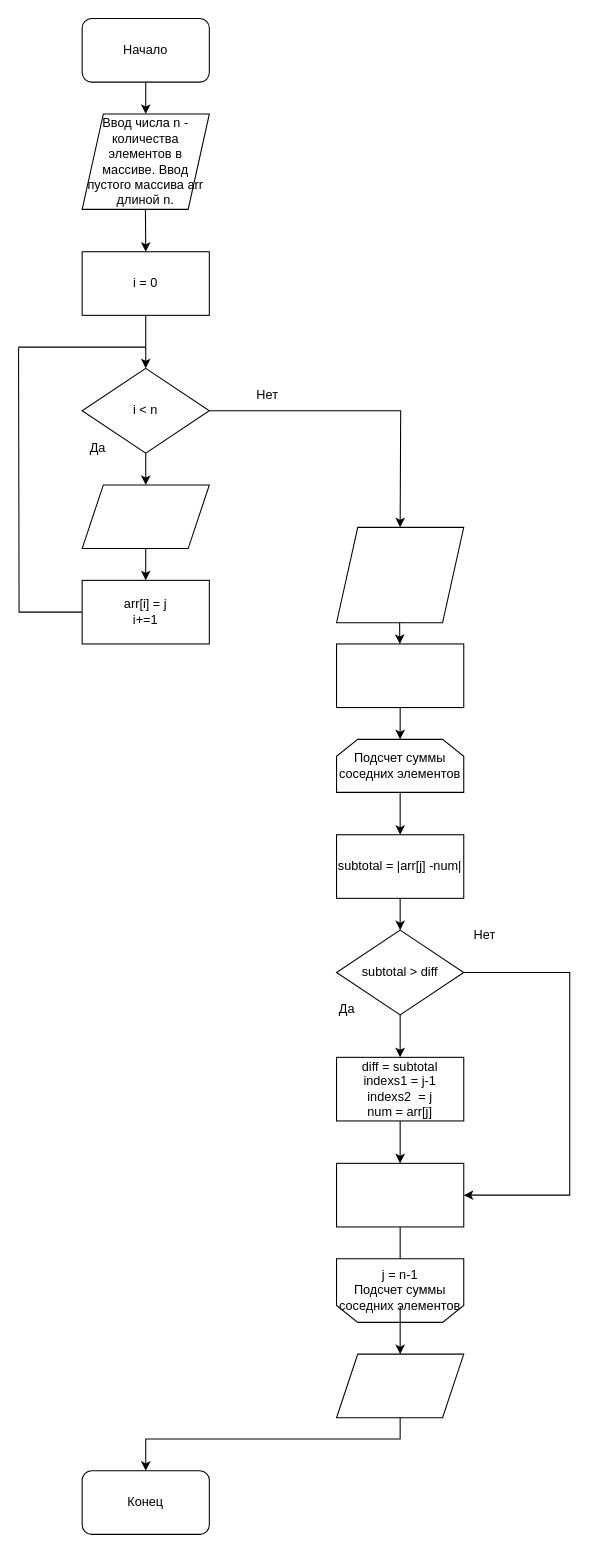
Image size: 597x1553. Some labels were removed from this diagram. Each missing label, with the centre of its shape:
"j = 1" belongs at point (399, 675).
"j = j + 1" belongs at point (399, 1194).
"Ввод num = arr[0]. Ввод diff = 100000. Ввод пустого массива indexs длиной 2" belongs at point (399, 574).
"Ввод числа j" belongs at point (145, 516).
"Вывод diff, indexs1, indexs2" belongs at point (399, 1385).
